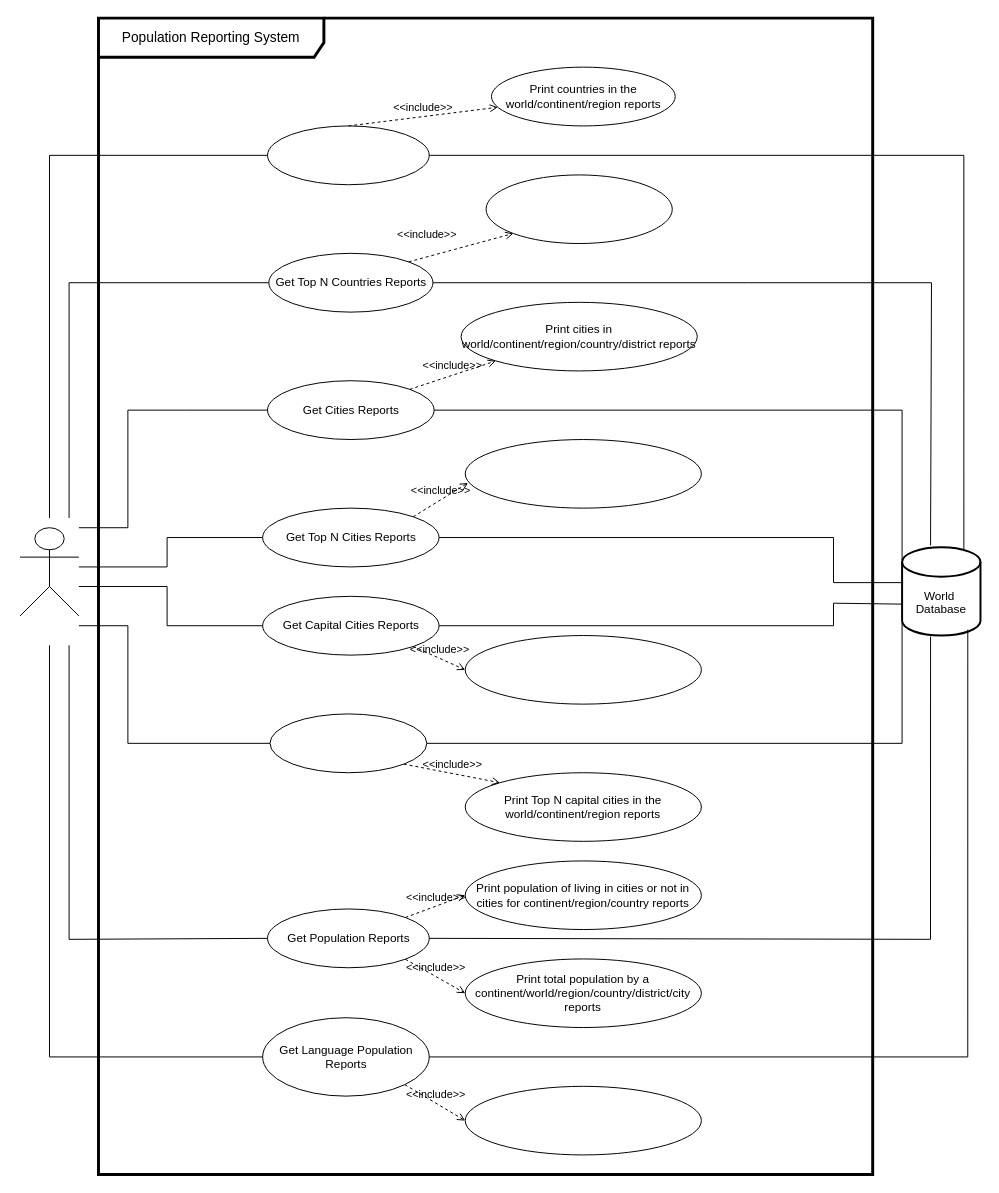
Image size: 999x1193. Some labels were removed from this diagram. Here are the shapes that lost their labels. From the top down, the box of each, then its label:
(267, 125, 429, 185): Get Countries Reports
(485, 174, 672, 244): Print top N countries in the world/continent/region reports
(464, 439, 701, 508): Print Top N cities in the world/continent/region/country/district reports
(19, 527, 79, 616): Data Analyst
(464, 635, 701, 704): Print capital cities in the world/continent/region reports
(269, 713, 427, 773): Get Top N Capital Cities Reports
(464, 1085, 701, 1155): Print Language Statistics Report
